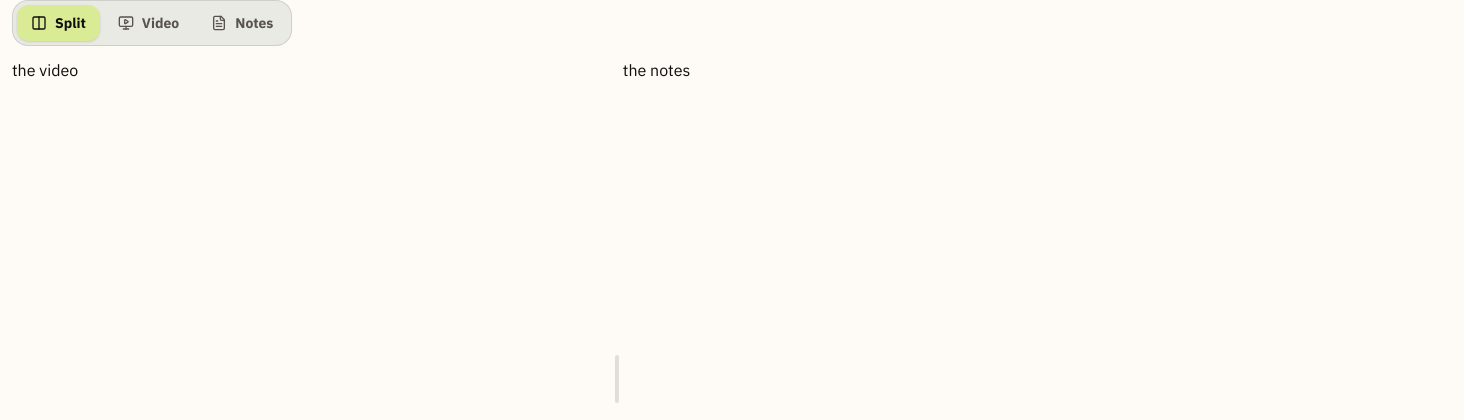
Test: WorkspaceLayout › resets to the default layout
Click the button "Video" at [149, 23], box x1=104 y1=5 x2=193 y2=41
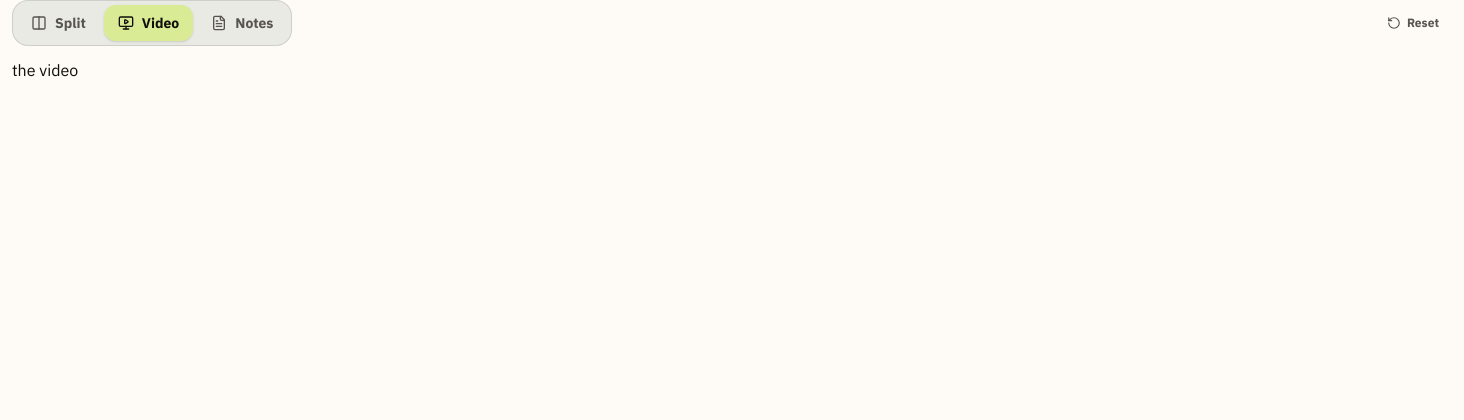
Click the button "Split" at [58, 23], box x1=17 y1=5 x2=100 y2=41
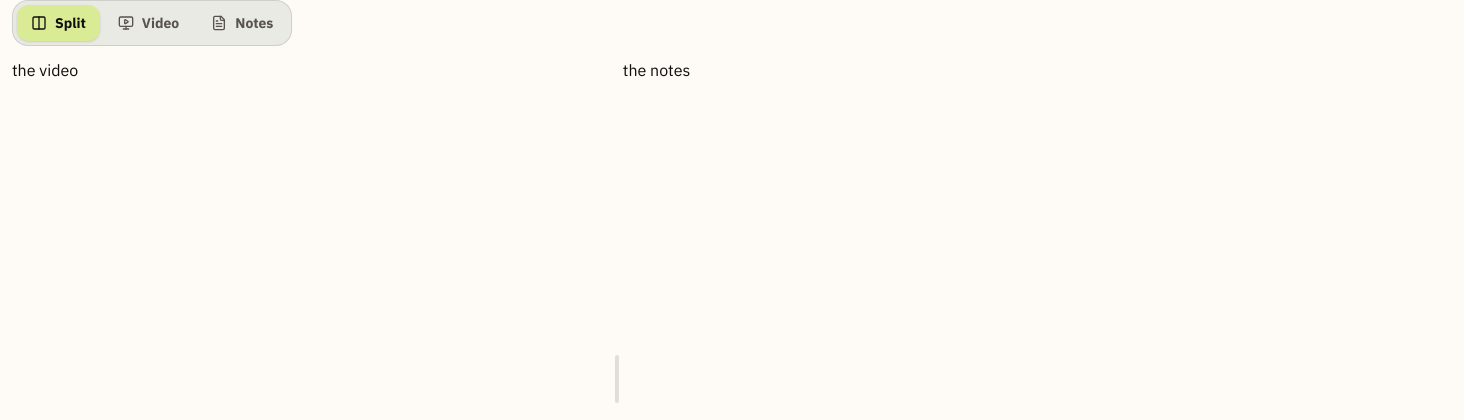
Press ArrowRight in the element named "Resize Video and Study notes", box x1=615 y1=355 x2=619 y2=403
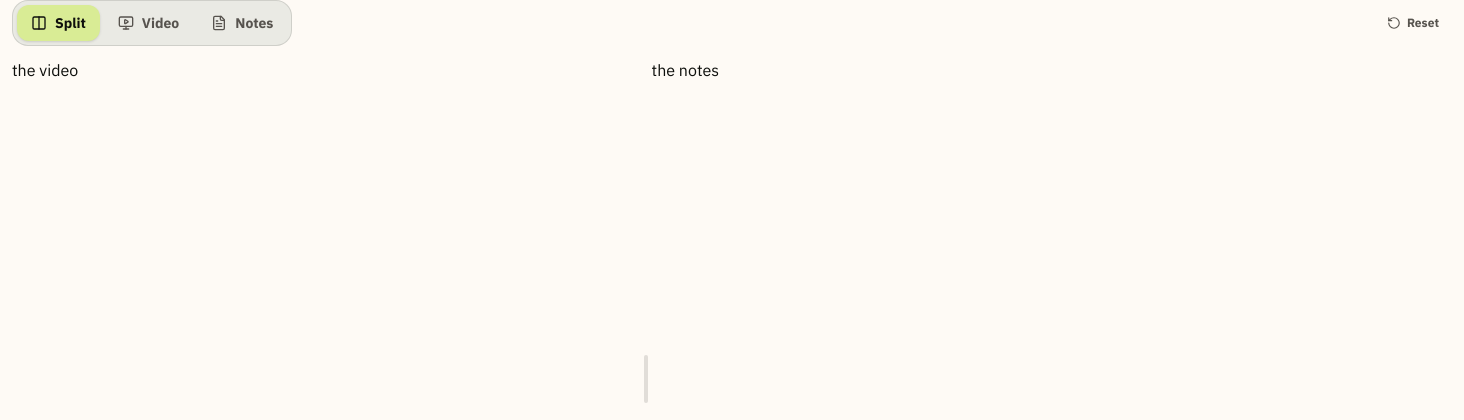
Result: the button with aria-label "Reset layout" is enabled
Click the button with aria-label "Reset layout" at [1413, 23], box x1=1374 y1=5 x2=1452 y2=41
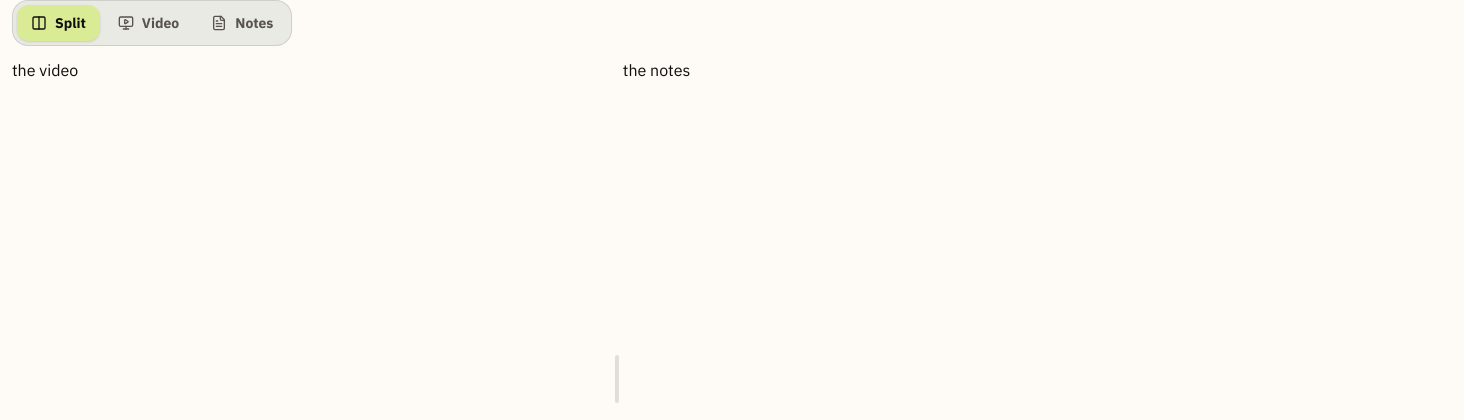
Result: the element named "Resize Video and Study notes" has attribute aria-valuenow="42" at x1=615 y1=355 x2=619 y2=403
